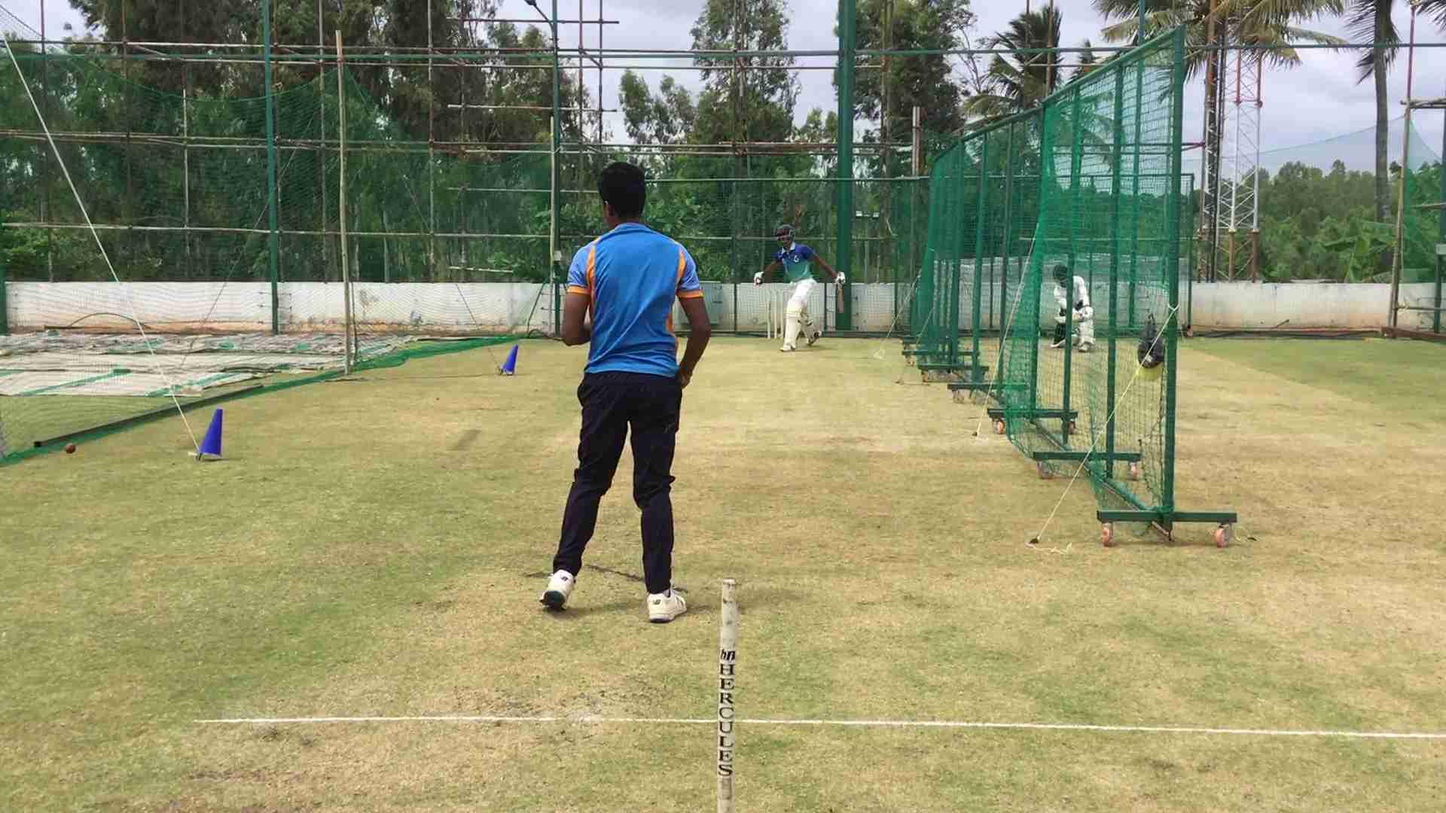batsman: (750, 220, 851, 353)
